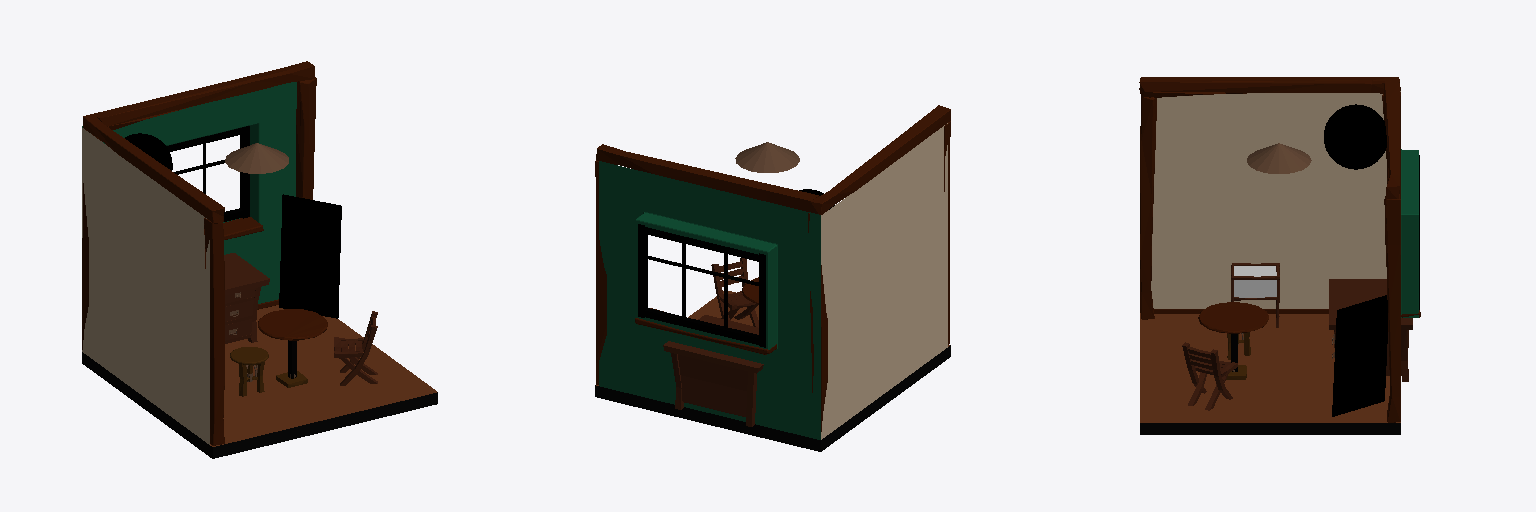
File: room3.obj
3 renders of one model, left to right at view 1: azimuth 30°, elevation 25°; view 2: azimuth 150°, elevation 25°; view 3: azimuth 270°, elevation 25°, orthographic.
Visible parts, largest first — view 1: Wall2, Floor, Wall1, Plane, Ground_Plate, Beam5, Beam3, Beam4, Dresser.001, Table.001, Beam2, Wooden_Chair.001 (+7 smaller); view 2: Wall1, Wall2, Dresser.001, Ground_Plate, Beam5, Beam4, 円錐, Beam2, Wooden_Chair.001, Cube.009, Beam2.001, Cube.007 (+5 smaller); view 3: Wall2, Floor, Plane, Beam4, Sphere, Ground_Plate, Beam3, Beam2, Wall1, Dresser.001, Table.001, Display_Case.001 (+4 smaller).
Part boxes in pixels (x1,y1,x2,y2): Wall2: (82, 128, 209, 444); Floor: (210, 305, 436, 446); Wall1: (82, 82, 296, 303); Plane: (279, 194, 341, 318); Ground_Plate: (82, 352, 437, 458); Beam5: (94, 61, 314, 129); Beam3: (204, 218, 224, 445); Beam4: (83, 114, 224, 223); Dresser.001: (224, 253, 269, 343); Table.001: (258, 309, 327, 387); Beam2: (296, 77, 316, 199); Wooden_Chair.001: (334, 311, 377, 385); Wall1: (599, 161, 820, 439); Wall2: (821, 123, 947, 439); Dresser.001: (663, 315, 763, 426); Ground_Plate: (595, 345, 950, 451); Beam5: (596, 144, 818, 211); Beam4: (810, 105, 950, 214); 円錐: (735, 142, 799, 172); Beam2: (595, 160, 606, 384); Wooden_Chair.001: (711, 258, 758, 327); Cube.009: (645, 308, 758, 344); Beam2.001: (808, 213, 827, 431); Cube.007: (638, 224, 647, 317); Wall2: (1151, 91, 1400, 308); Floor: (1140, 313, 1400, 422); Plane: (1332, 295, 1387, 416); Beam4: (1139, 77, 1400, 97); Sphere: (1324, 104, 1386, 169); Ground_Plate: (1140, 423, 1400, 434); Beam3: (1140, 97, 1156, 319); Beam2: (1384, 194, 1400, 422); Wall1: (1401, 149, 1418, 317); Dresser.001: (1329, 279, 1412, 381); Table.001: (1198, 302, 1268, 379); Display_Case.001: (1231, 263, 1279, 327).
Bounding box in the file's own units: 8.1 × 8.42 × 8.63.